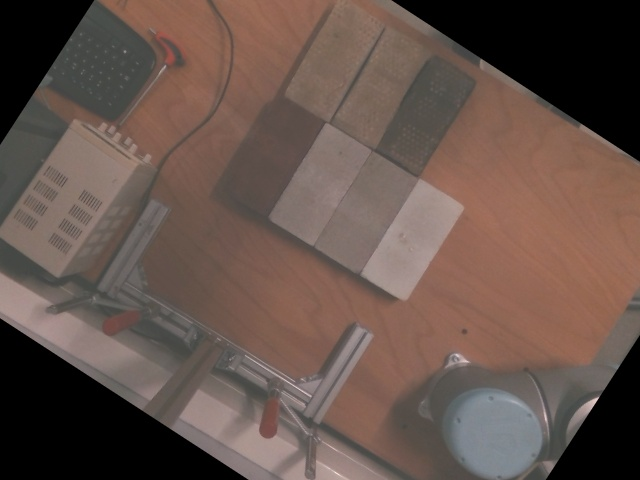brick: (360, 178, 462, 299), (314, 149, 416, 270), (269, 121, 371, 242), (331, 23, 432, 144), (284, 0, 386, 116)
